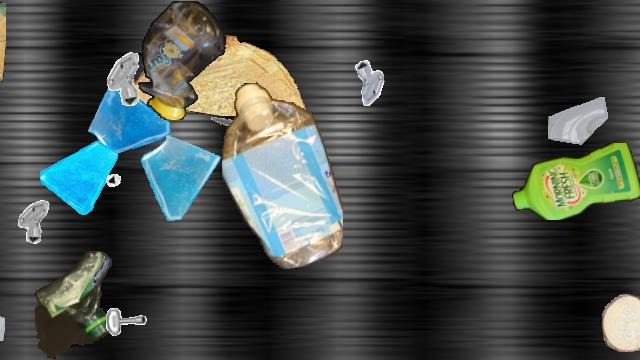glass: (135, 133, 227, 225), (87, 76, 175, 164), (40, 137, 118, 215), (548, 96, 610, 158), (0, 296, 5, 358)
metal: (93, 50, 151, 108), (100, 303, 156, 359), (348, 57, 396, 105), (7, 196, 55, 244), (206, 104, 250, 148), (103, 156, 141, 194)
plastic: (222, 81, 342, 269), (137, 1, 227, 119), (512, 143, 640, 219), (35, 249, 113, 359)
wood: (131, 35, 317, 115), (602, 294, 640, 352), (0, 1, 6, 81)
